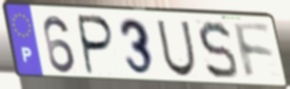3: (118, 16, 159, 79)
6: (41, 13, 77, 75)
F: (231, 21, 276, 83)
P: (77, 13, 117, 78)
S: (196, 19, 240, 82)
U: (155, 18, 198, 79)
